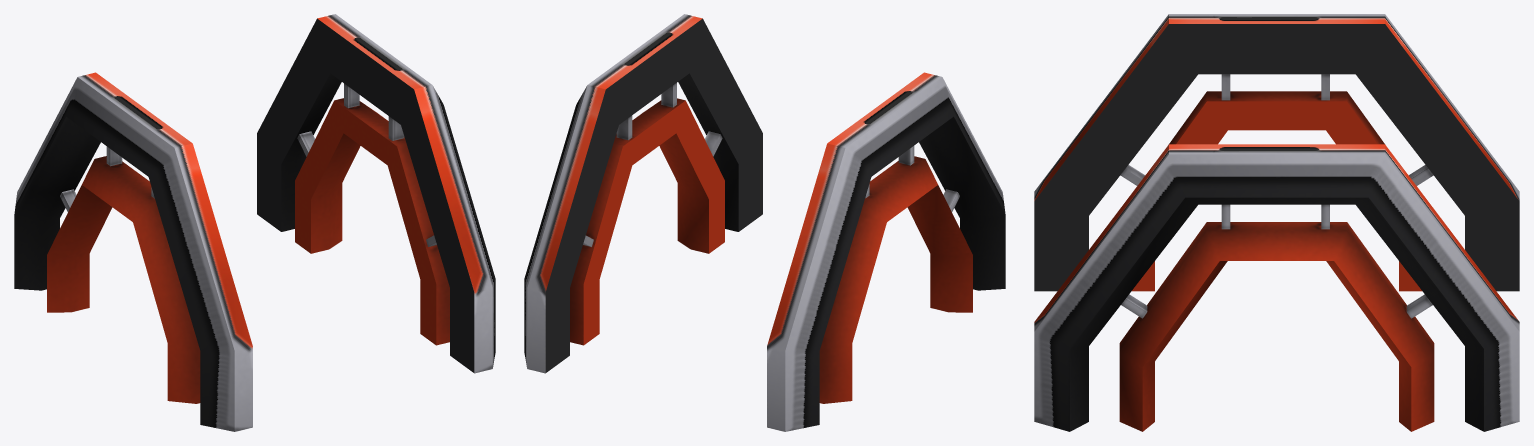
The model's file is _heavy_Armor.FBX.
3 views of the same model, side by side, from view 1: azimuth 30°, elevation 25°; view 2: azimuth 150°, elevation 25°; view 3: azimuth 270°, elevation 25° (orthographic). The views are drawn at different scales.
Parts seen in each view (by area): view 1: _heavy_Armor; view 2: _heavy_Armor; view 3: _heavy_Armor.
Part boxes in pixels (x1=…): _heavy_Armor: x1=14, y1=14, x2=495, y2=431; _heavy_Armor: x1=524, y1=14, x2=1005, y2=431; _heavy_Armor: x1=1034, y1=14, x2=1519, y2=431.
Bounding box in the file's own units: 1.27 × 0.9897 × 1.63.
